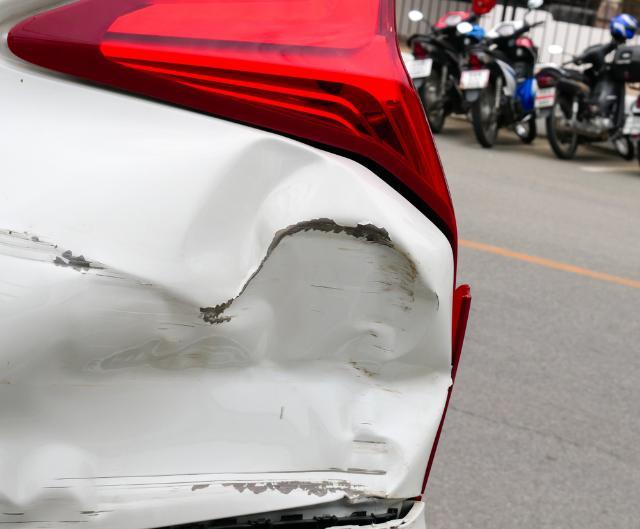dent: (0, 135, 449, 529)
scratch: (0, 224, 101, 282)
